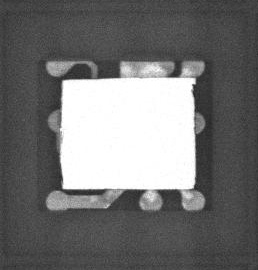DIE_BROKEN: (190, 83, 196, 136), (59, 157, 65, 187)
